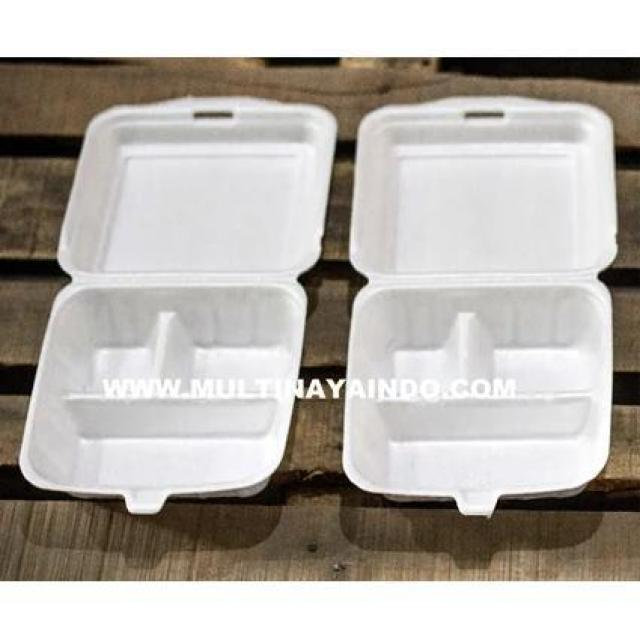styrofoam: (16, 92, 338, 515), (340, 92, 619, 518)
